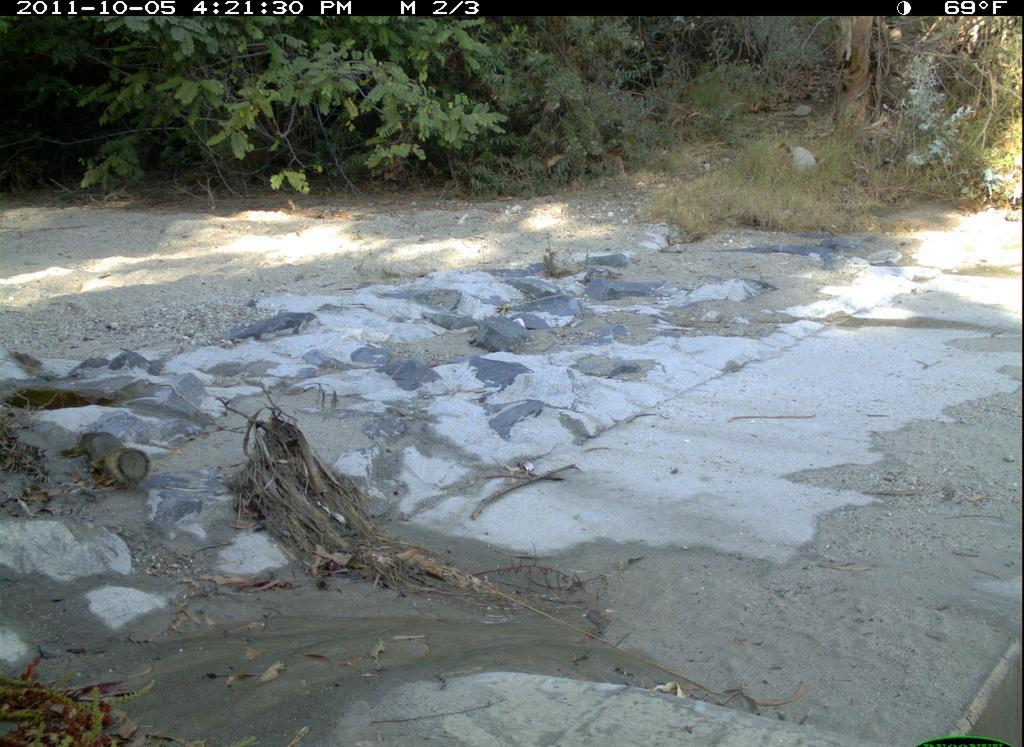squirrel: (75, 428, 155, 495)
